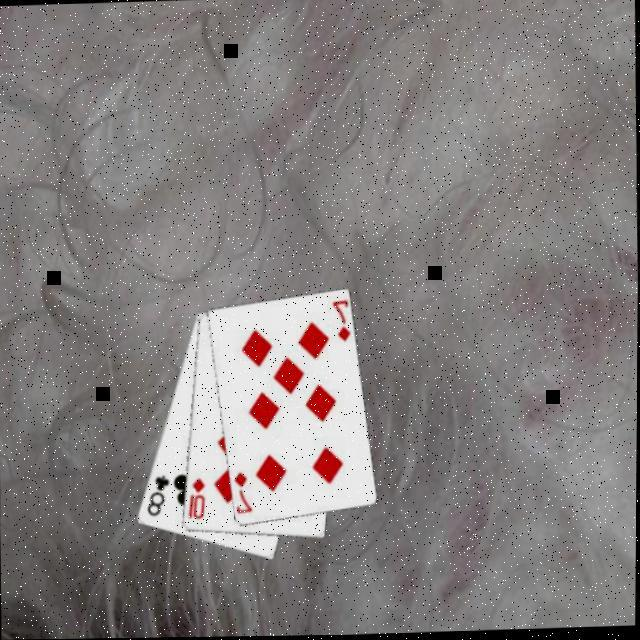10D: (186, 474, 209, 522)
7D: (232, 468, 256, 516), (330, 297, 354, 345)
8C: (144, 472, 174, 518)
